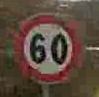limite 60: (13, 10, 81, 85)
